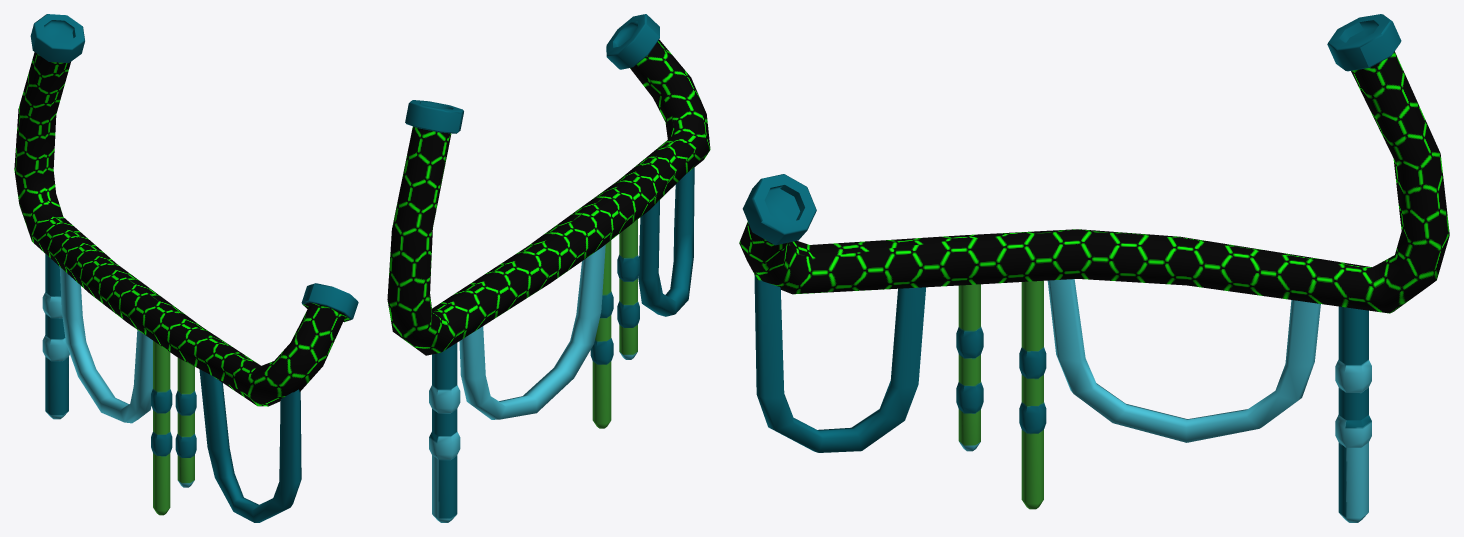
File: SM_Cord_03.fbx
3 views of the same model, side by side, from view 1: azimuth 30°, elevation 25°; view 2: azimuth 150°, elevation 25°; view 3: azimuth 270°, elevation 25° (orthographic). The views are drawn at different scales.
Parts seen in each view (by area): view 1: SM_Cord_03; view 2: SM_Cord_03; view 3: SM_Cord_03.
Part boxes in pixels (<box>): SM_Cord_03: <box>14,14,358,522</box>; SM_Cord_03: <box>387,14,710,522</box>; SM_Cord_03: <box>739,14,1449,522</box>.
Size of the model in its own units: 30.17 by 126 by 98.24.
1 material, 1 textured.
